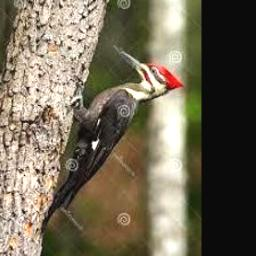Woodpecker: (41, 45, 182, 233)
